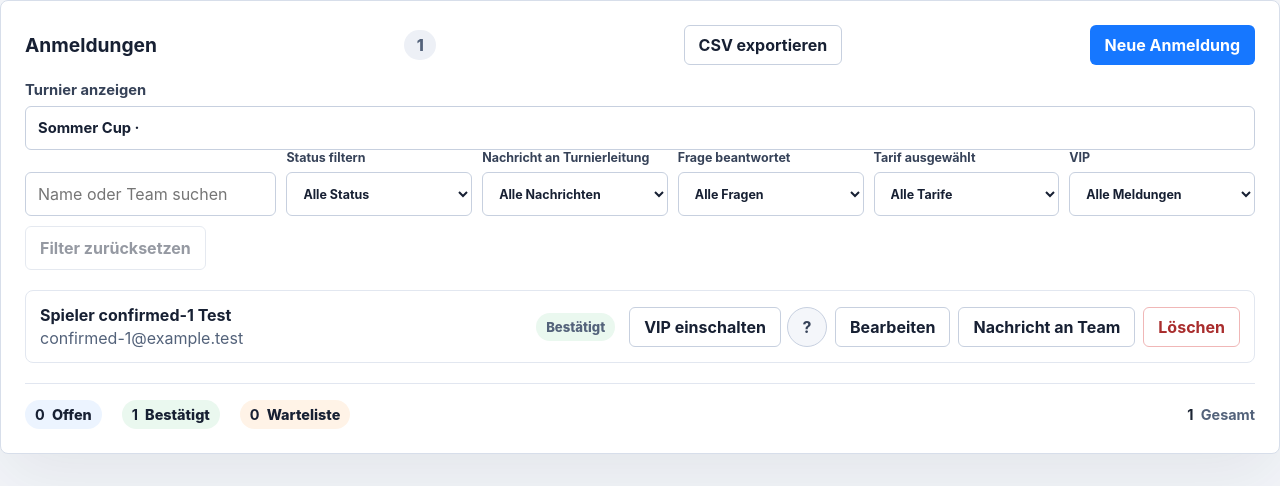
Anmeldungsverwaltung: Freigabe und Storno durch die Turnierleitung › storniert eine Anmeldung als Turnierleiter erst nach Bestätigung
Click the button "Löschen": (1192, 326) [1143,306,1240,346]
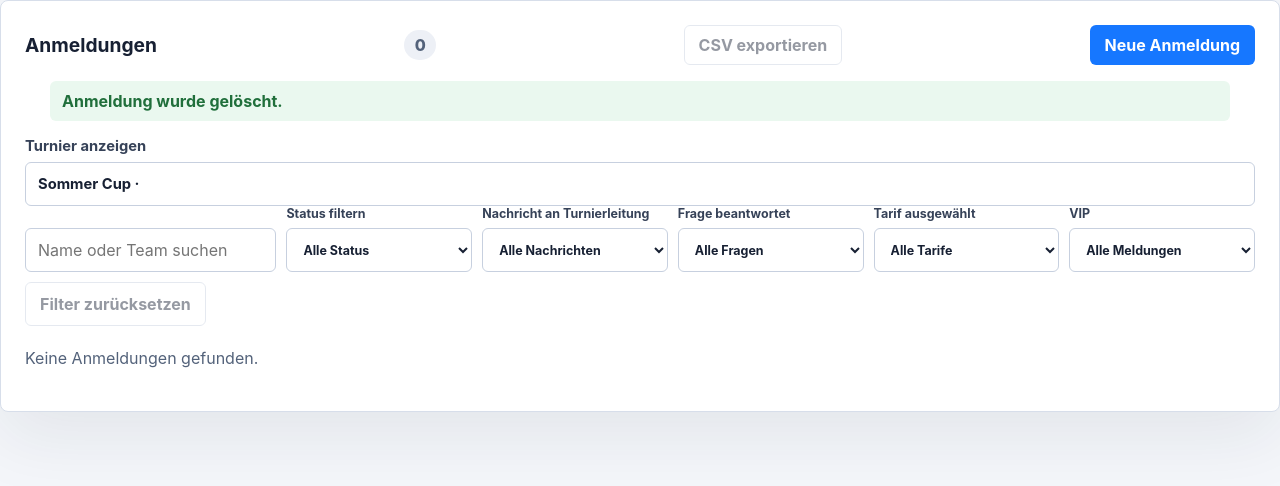
Now the text "Anmeldung wurde gelöscht." is shown, box [50,81,1230,121]
